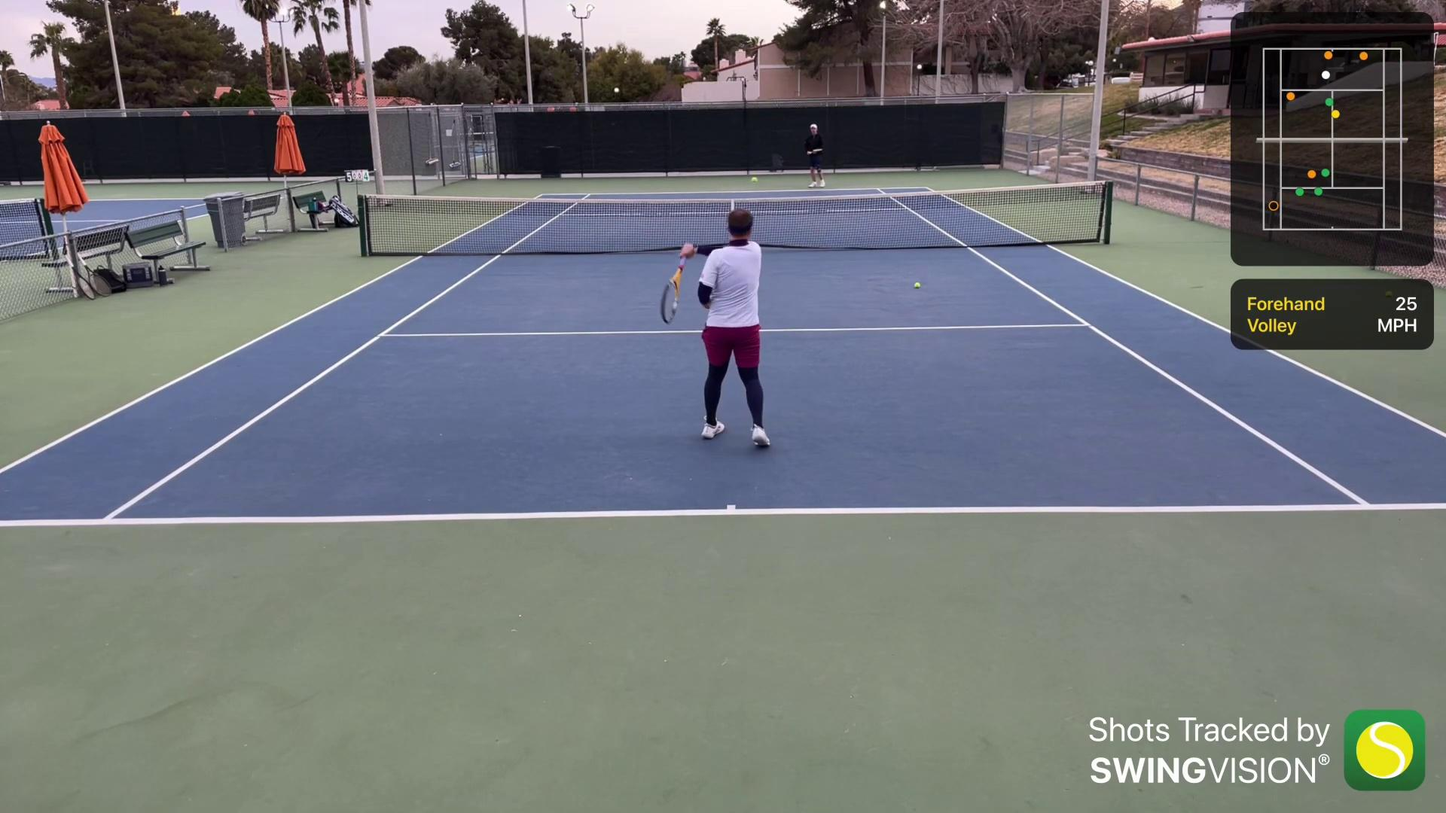ball: (910, 279, 924, 292), (749, 176, 760, 186), (409, 313, 412, 316)
